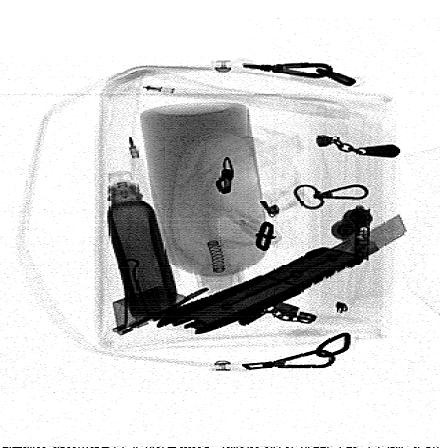Knife: (155, 213, 409, 335)
